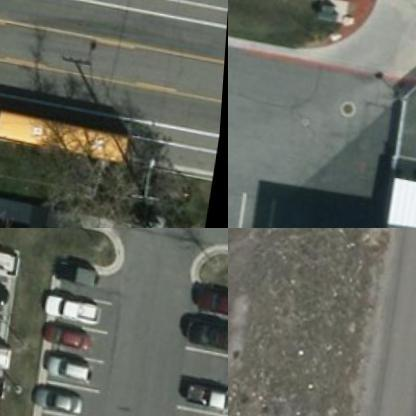car: (42, 280, 103, 314), (43, 310, 96, 344), (42, 344, 94, 378), (36, 372, 88, 406), (183, 365, 227, 405), (190, 305, 227, 346), (195, 269, 227, 310), (0, 237, 20, 274), (0, 359, 15, 394), (0, 270, 12, 300)
